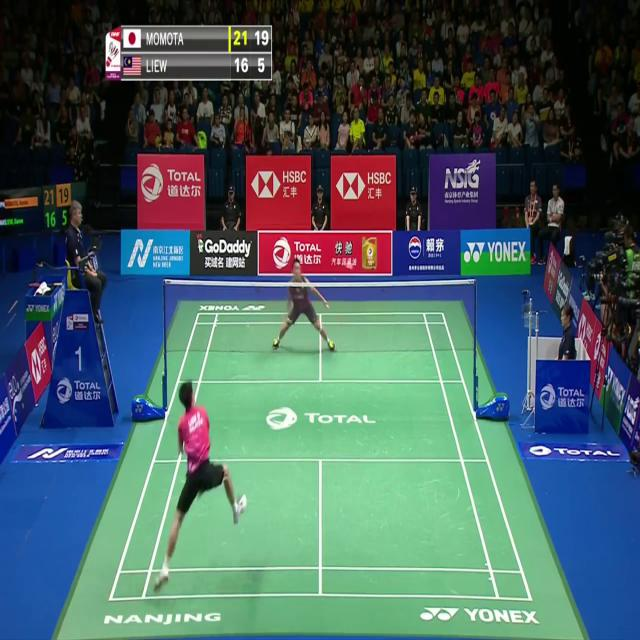Shuttlecock: (346, 261, 352, 272)
